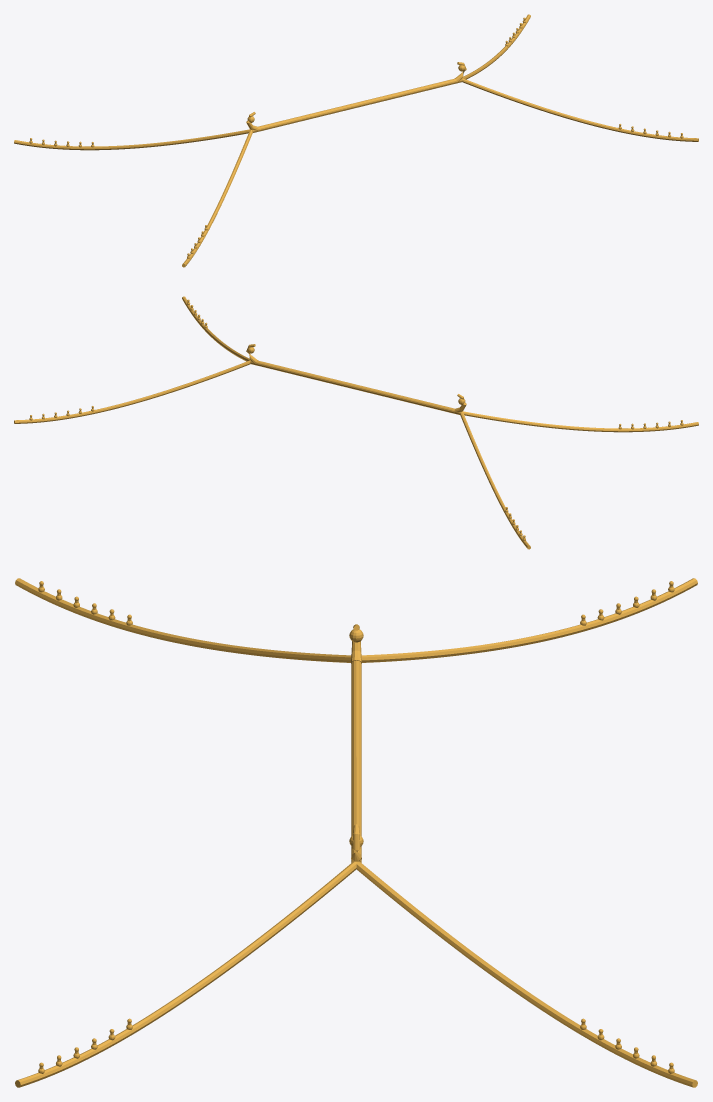
The model's file is SM_18_Ridge_Ornaments_Lower.fbx.
3 views of the same model, one above another, from view 1: azimuth 30°, elevation 25°; view 2: azimuth 150°, elevation 25°; view 3: azimuth 270°, elevation 25° (orthographic). The views are drawn at different scales.
Parts seen in each view (by area): view 1: Ridge_Ornaments_Lower; view 2: Ridge_Ornaments_Lower; view 3: Ridge_Ornaments_Lower.
Part boxes in pixels (bbox=[...]): Ridge_Ornaments_Lower: bbox=[14, 14, 698, 267]; Ridge_Ornaments_Lower: bbox=[14, 296, 698, 549]; Ridge_Ornaments_Lower: bbox=[15, 578, 697, 1087].
Bounding box in the file's own units: 5325 × 3046 × 561.
